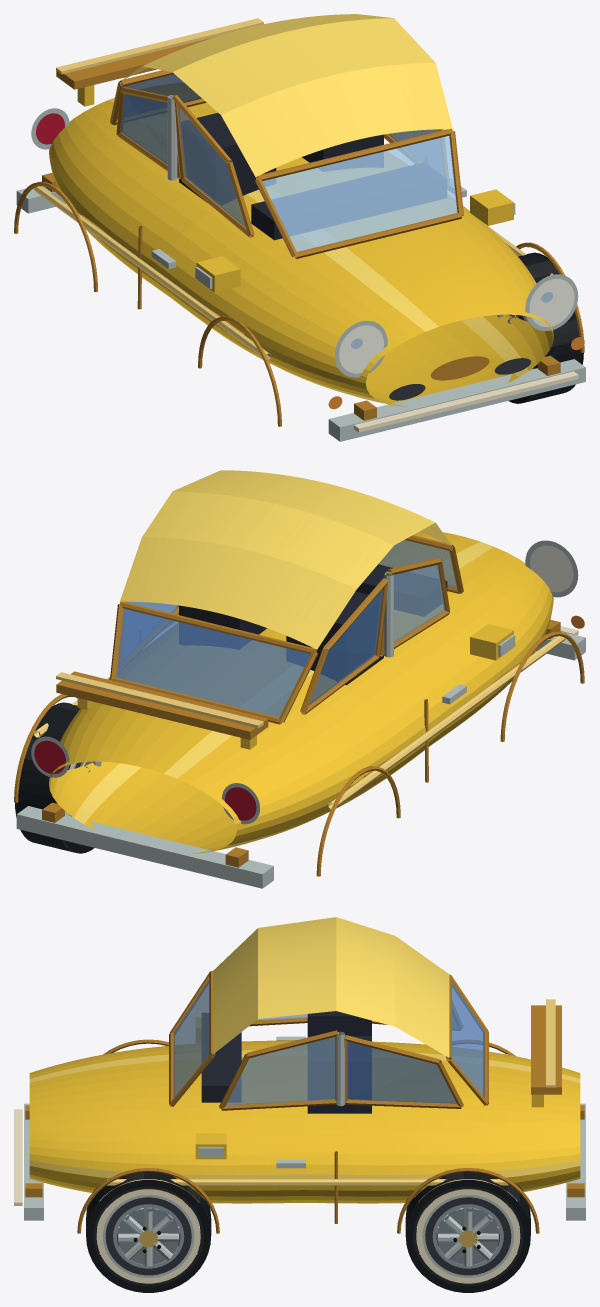
File: yellow_beetle_complete_sunshine.obj
3 renders of one model, top to bottom at view 1: azimuth 30°, elevation 25°; view 2: azimuth 150°, elevation 25°; view 3: azimuth 270°, elevation 25°, orthographic. The views are drawn at different scales.
Visible parts, largest first — view 1: SCULPTED_MAIN_BODY, BUBBLE_ROOF, WINDSHIELD, DASHBOARD, SEATS, CHROME_BUMPERS, GLASS_SEALS, ROUND_HEADLAMPS, DRIVER_WINDOW, GLASS_TRIM, SUNNY_SPEARS, CLASSIC_ARCHES (+12 smaller); view 2: SCULPTED_MAIN_BODY, BUBBLE_ROOF, REAR_WINDOW, CHROME_BUMPERS, SEATS, REAR_SIDE_WINDOW, GLASS_SEALS, GLASS_TRIM, SPOILER, WHEEL_TREAD, DRIVER_WINDOW, CLASSIC_ARCHES (+9 smaller); view 3: SCULPTED_MAIN_BODY, BUBBLE_ROOF, WHEEL_SIDE, DRIVER_WINDOW, SEATS, REAR_SIDE_WINDOW, GLASS_TRIM, WHEEL_DISC, ALLOY_SPOKES, GLASS_SEALS, WINDSHIELD, CLASSIC_ARCHES (+11 smaller).
Part boxes in pixels (bbox=[...]): SCULPTED_MAIN_BODY: bbox=[49, 83, 553, 406]; BUBBLE_ROOF: bbox=[121, 14, 452, 176]; WINDSHIELD: bbox=[262, 136, 457, 251]; DASHBOARD: bbox=[251, 163, 446, 240]; SEATS: bbox=[179, 113, 383, 205]; CHROME_BUMPERS: bbox=[16, 186, 585, 441]; GLASS_SEALS: bbox=[110, 70, 463, 258]; ROUND_HEADLAMPS: bbox=[334, 274, 578, 377]; DRIVER_WINDOW: bbox=[177, 106, 441, 227]; GLASS_TRIM: bbox=[116, 87, 449, 237]; SUNNY_SPEARS: bbox=[34, 186, 553, 360]; CLASSIC_ARCHES: bbox=[14, 181, 584, 426]; SCULPTED_MAIN_BODY: bbox=[49, 531, 553, 853]; BUBBLE_ROOF: bbox=[120, 470, 452, 649]; REAR_WINDOW: bbox=[116, 608, 310, 717]; CHROME_BUMPERS: bbox=[16, 631, 585, 888]; SEATS: bbox=[179, 591, 383, 685]; REAR_SIDE_WINDOW: bbox=[123, 589, 382, 704]; GLASS_SEALS: bbox=[110, 535, 463, 724]; GLASS_TRIM: bbox=[118, 558, 449, 714]; SPOILER: bbox=[56, 671, 268, 739]; WHEEL_TREAD: bbox=[16, 703, 80, 852]; DRIVER_WINDOW: bbox=[389, 565, 444, 642]; CLASSIC_ARCHES: bbox=[14, 631, 584, 876]; SCULPTED_MAIN_BODY: bbox=[29, 1040, 580, 1203]; BUBBLE_ROOF: bbox=[213, 917, 449, 1057]; WHEEL_SIDE: bbox=[86, 1180, 530, 1292]; DRIVER_WINDOW: bbox=[226, 1014, 337, 1105]; SEATS: bbox=[307, 1011, 371, 1113]; REAR_SIDE_WINDOW: bbox=[345, 1016, 456, 1103]; GLASS_TRIM: bbox=[219, 1002, 463, 1110]; WHEEL_DISC: bbox=[117, 1208, 499, 1264]; ALLOY_SPOKES: bbox=[118, 1207, 498, 1266]; GLASS_SEALS: bbox=[169, 971, 488, 1106]; WINDSHIELD: bbox=[173, 979, 212, 1097]; CLASSIC_ARCHES: bbox=[77, 1039, 539, 1233].
Bounding box in the file's own units: 1.85 × 1.74 × 3.29.
